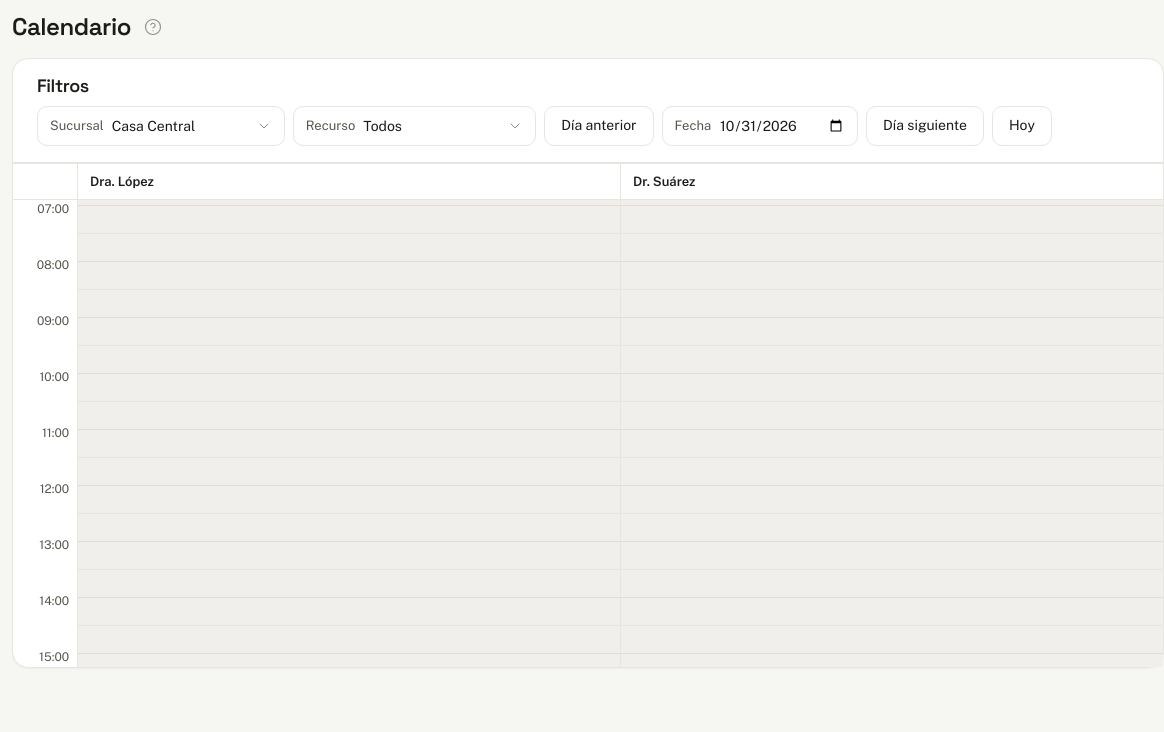
Test: BookingCalendarPage › el filtro de recurso deja una sola columna
The width and height of the screenshot is (1164, 732).
(page scrolled)
expect the text "Dr. Suárez" is shown: met, box [620,164,1163,199]
Click the dropdown labelled "Recurso": (443, 126) [363,118,523,134]
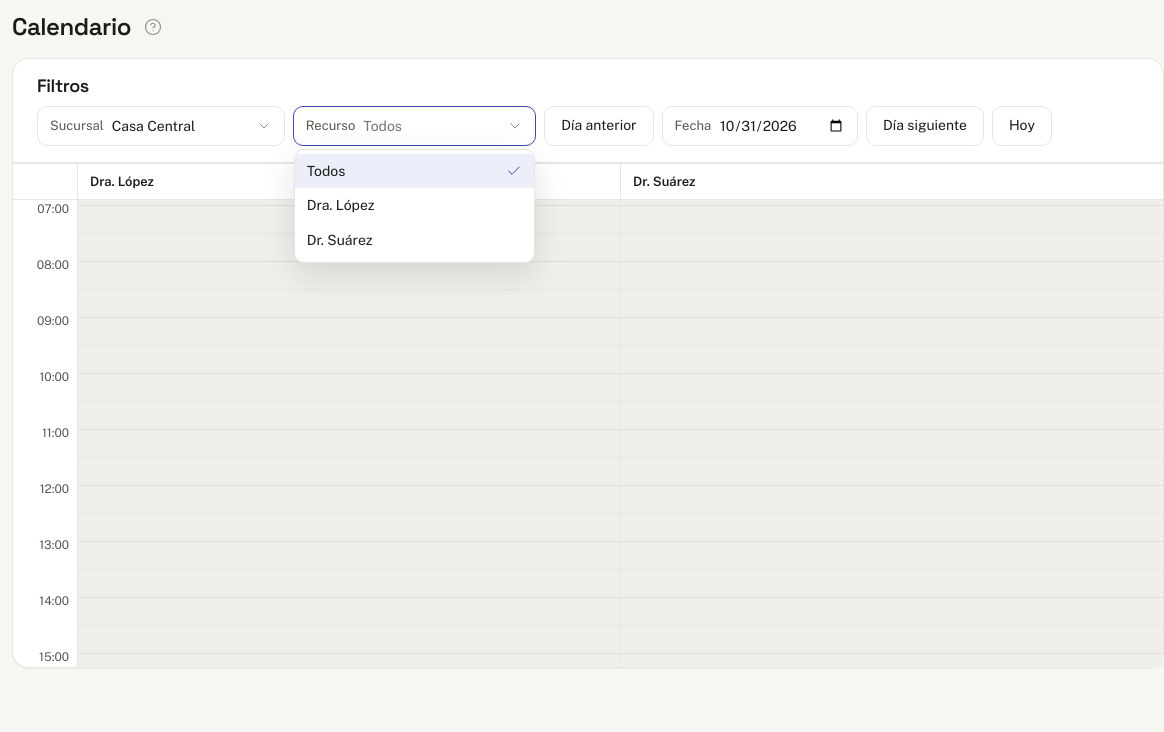
Click the option "Dra. López": (341, 205) [307,197,374,213]
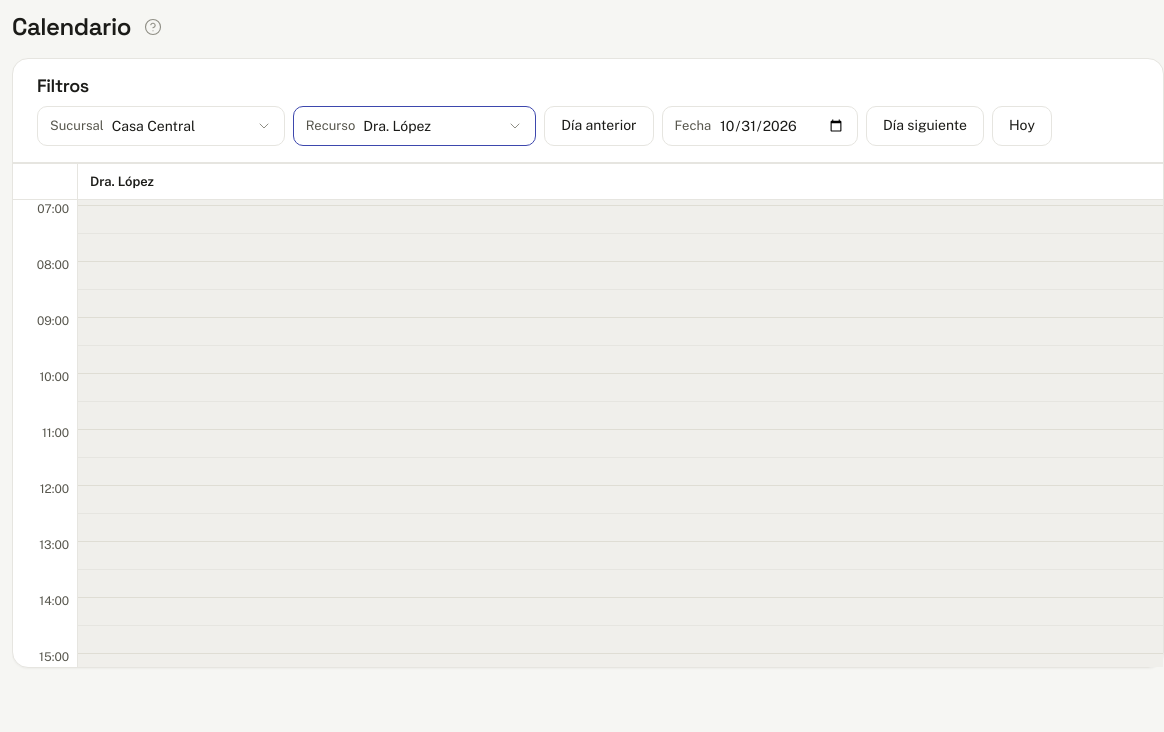
expect the option "Dr. Suárez" is gone: met
